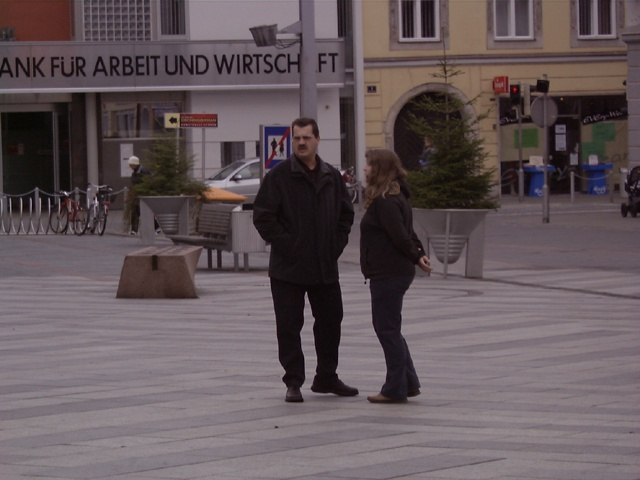person: (255, 118, 355, 402), (351, 141, 430, 405)
